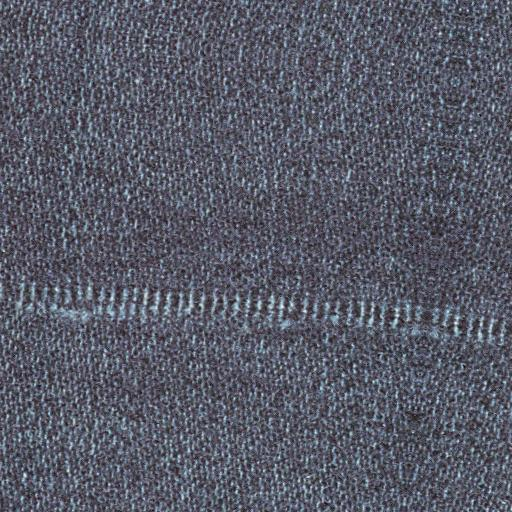slub: (2, 270, 512, 357)
